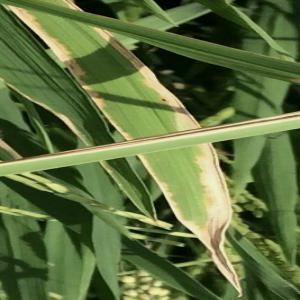2 BacterialBlight: (153, 141, 233, 248)
